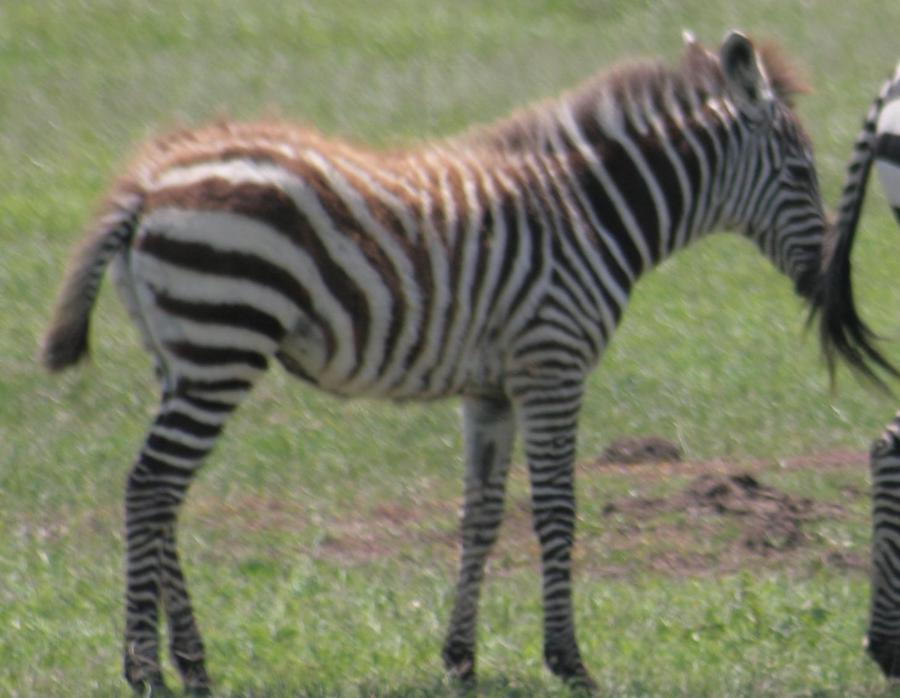zebra_plains: (120, 96, 656, 432)
